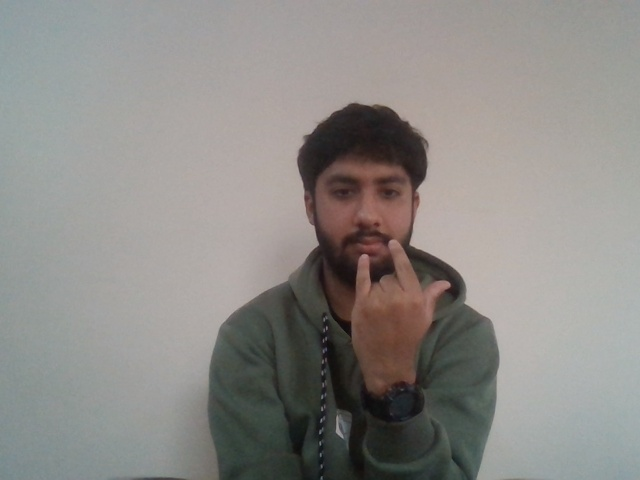IloveYou: (345, 238, 457, 344)
